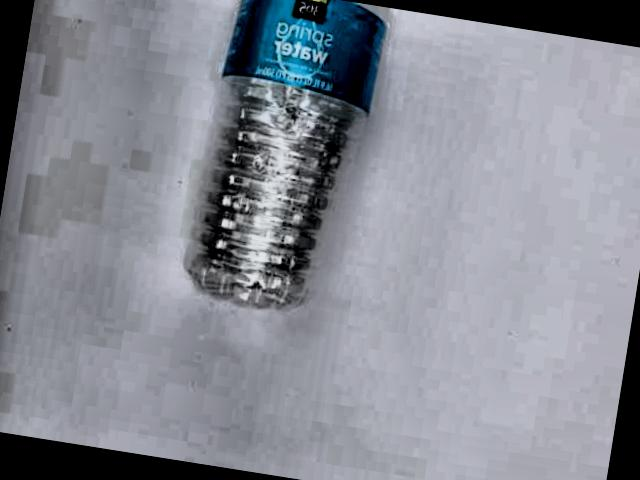Bottles: (149, 0, 425, 350)
